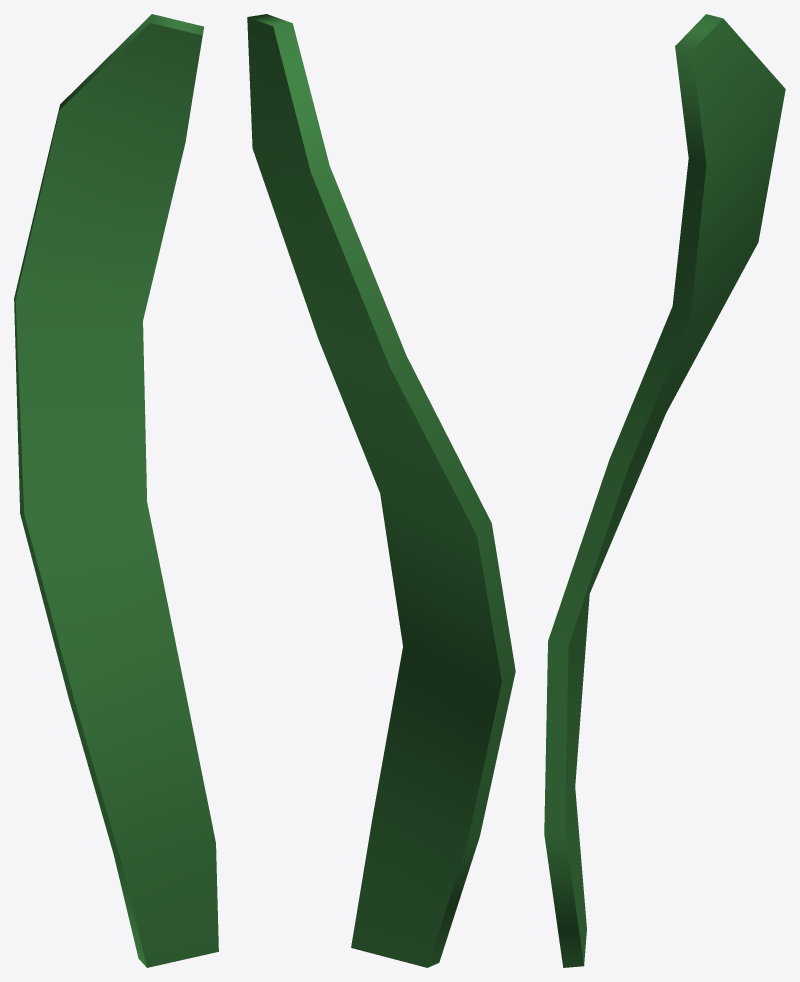
Rendered from Sea_plant_5_1.fbx.
The picture shows the model from 3 angles, left to right: view 1: azimuth 30°, elevation 25°; view 2: azimuth 150°, elevation 25°; view 3: azimuth 270°, elevation 25°; orthographic projection. The views are drawn at different scales.
Visible parts, largest first — view 1: Sea_plant_5_1; view 2: Sea_plant_5_1; view 3: Sea_plant_5_1.
Part boxes in pixels (x1,y1,x2,y2): Sea_plant_5_1: (14, 14, 218, 967); Sea_plant_5_1: (247, 14, 515, 967); Sea_plant_5_1: (544, 14, 785, 967).
Size of the model in its own units: 0.3563 by 1.5 by 0.3434.
